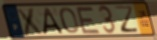3: (98, 4, 117, 36)
A: (42, 7, 65, 36)
E: (75, 6, 103, 35)
O: (58, 6, 80, 34)
X: (15, 7, 46, 36)
Z: (113, 4, 141, 34)
